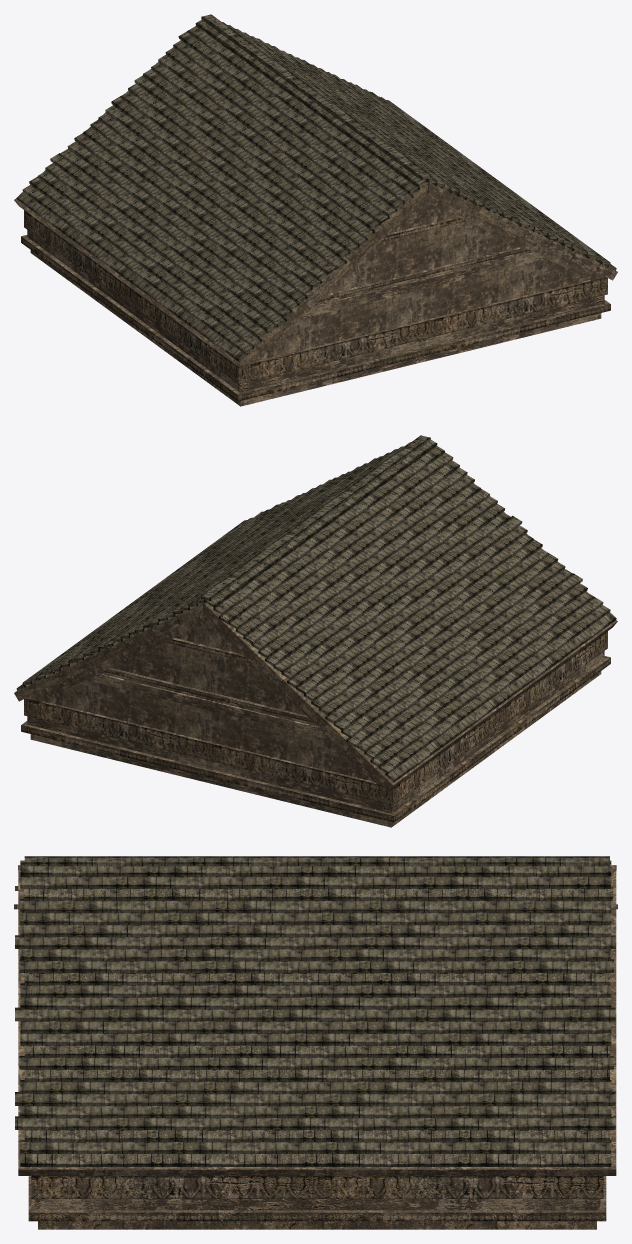
The model's file is materials_5_roof_7.fbx.
The picture shows the model from 3 angles, top to bottom: view 1: azimuth 30°, elevation 25°; view 2: azimuth 150°, elevation 25°; view 3: azimuth 270°, elevation 25°; orthographic projection. The views are drawn at different scales.
Visible parts, largest first — view 1: materials_5_roof_7; view 2: materials_5_roof_7; view 3: materials_5_roof_7.
Part boxes in pixels (x1,y1,x2,y2): materials_5_roof_7: (14, 14, 617, 406); materials_5_roof_7: (14, 435, 617, 827); materials_5_roof_7: (14, 856, 617, 1229).
Bounding box in the file's own units: 610 × 309 × 632.
